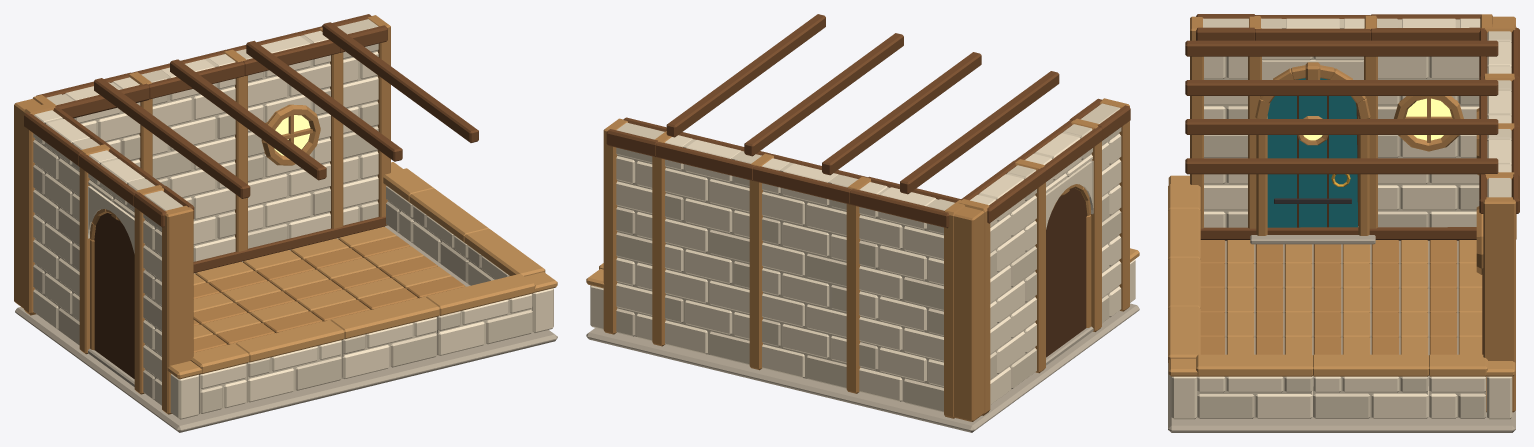
File: houseboat_interior.glb
3 renders of one model, left to right at view 1: azimuth 30°, elevation 25°; view 2: azimuth 150°, elevation 25°; view 3: azimuth 270°, elevation 25°, orthographic. The views are drawn at different scales.
Parts seen in each view (by area): view 1: houseboat_interior; view 2: houseboat_interior; view 3: houseboat_interior, part_door_leaf.
Boxes of the visible parts, box(x1,y1,x2,y2) form: houseboat_interior: box(14, 14, 557, 432); houseboat_interior: box(586, 14, 1139, 432); houseboat_interior: box(1168, 14, 1519, 432); part_door_leaf: box(1267, 78, 1357, 227).
Bounding box in the file's own units: 4.04 × 2.24 × 3.04.
